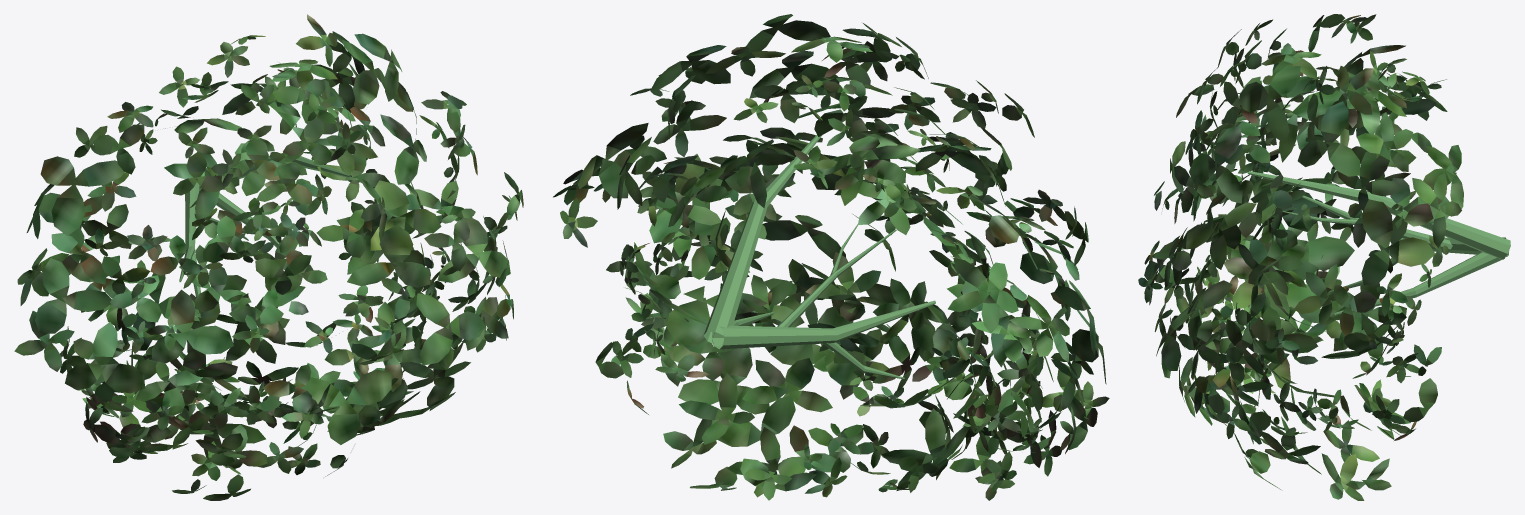
Rendered from bush.dae.
3 views of the same model, side by side, from view 1: azimuth 30°, elevation 25°; view 2: azimuth 150°, elevation 25°; view 3: azimuth 270°, elevation 25° (orthographic). The views are drawn at different scales.
Visible parts, largest first — view 1: node; view 2: node; view 3: node.
Boxes of the visible parts, x1=… form: node: x1=14, y1=14, x2=523, y2=500; node: x1=553, y1=14, x2=1109, y2=500; node: x1=1138, y1=14, x2=1510, y2=500.
Size of the model in its own units: 1.55 by 1.32 by 1.06.
Materials: 1 (1 with a texture image).
